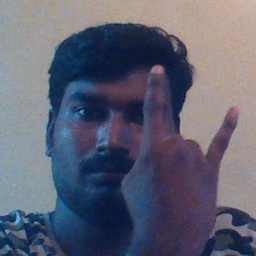V: (119, 63, 245, 245)
